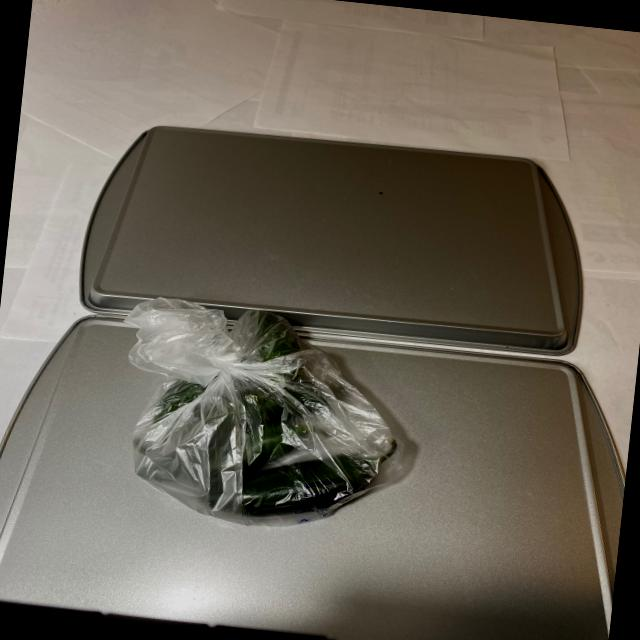chilli: (134, 298, 412, 524)
